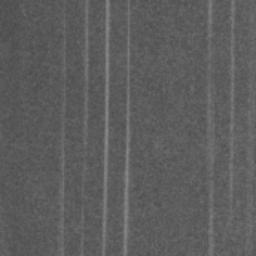Bright scratch: (81, 0, 89, 256), (60, 0, 66, 256), (103, 0, 109, 256), (124, 0, 130, 256), (208, 0, 213, 256), (229, 0, 235, 209)
